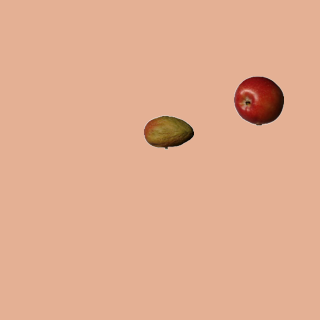Apple Braeburn: (233, 75, 283, 125)
Papaya: (143, 107, 193, 157)
